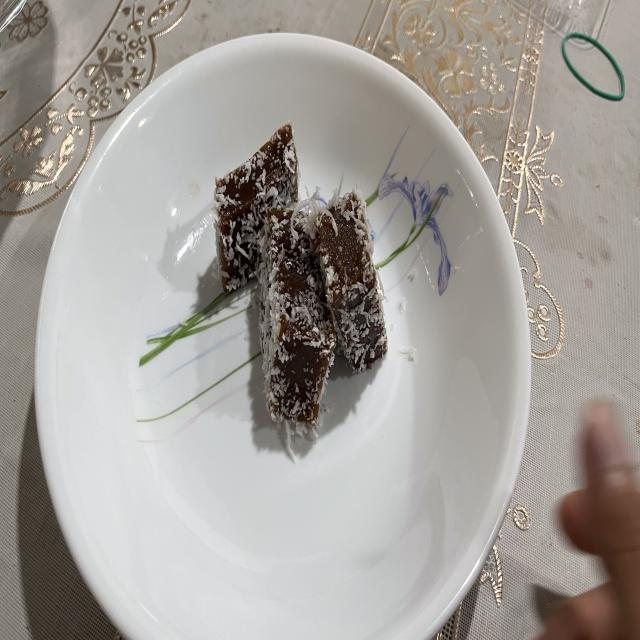kaswi: (259, 207, 336, 433), (214, 124, 299, 293), (314, 189, 388, 371)
